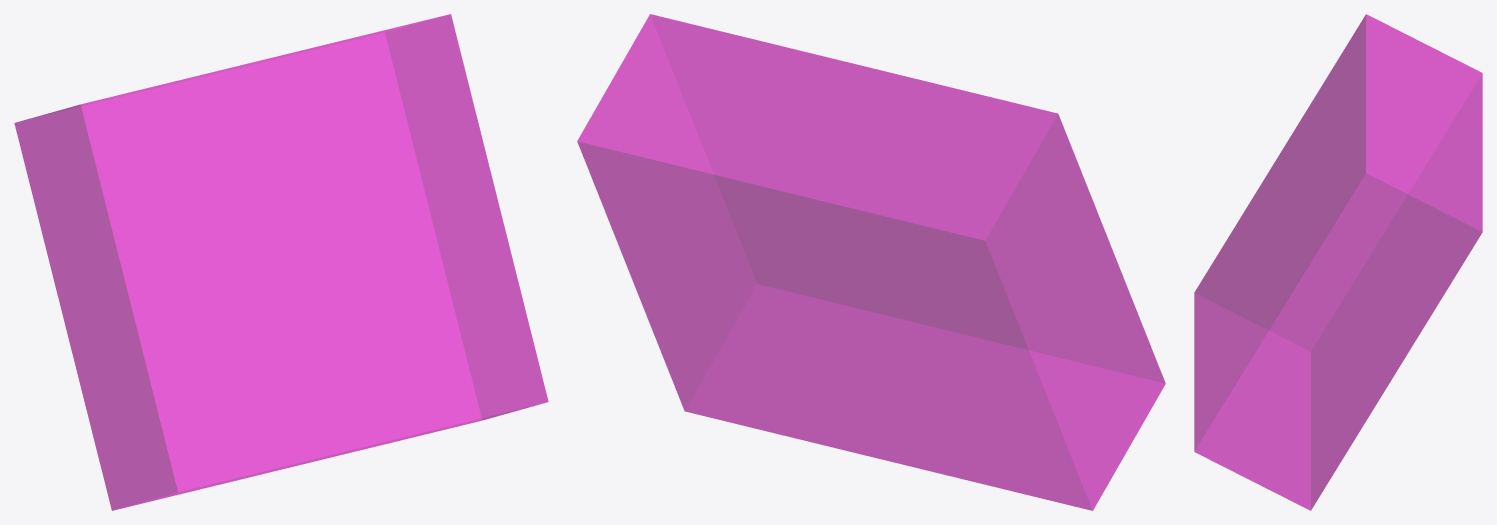
File: SM_Prop_Couch_Suite_01_Cushion_02_Collision.fbx
3 renders of one model, left to right at view 1: azimuth 30°, elevation 25°; view 2: azimuth 150°, elevation 25°; view 3: azimuth 270°, elevation 25°, orthographic. The views are drawn at different scales.
Visible parts, largest first — view 1: SM_Prop_Couch_Suite_01_Cushion_02_Collision; view 2: SM_Prop_Couch_Suite_01_Cushion_02_Collision; view 3: SM_Prop_Couch_Suite_01_Cushion_02_Collision.
Boxes of the visible parts, x1,y1,x2,y2 form: SM_Prop_Couch_Suite_01_Cushion_02_Collision: (14, 14, 548, 510); SM_Prop_Couch_Suite_01_Cushion_02_Collision: (577, 14, 1165, 510); SM_Prop_Couch_Suite_01_Cushion_02_Collision: (1194, 14, 1482, 510).
Size of the model in its own units: 44.6 by 44.13 by 34.16.
